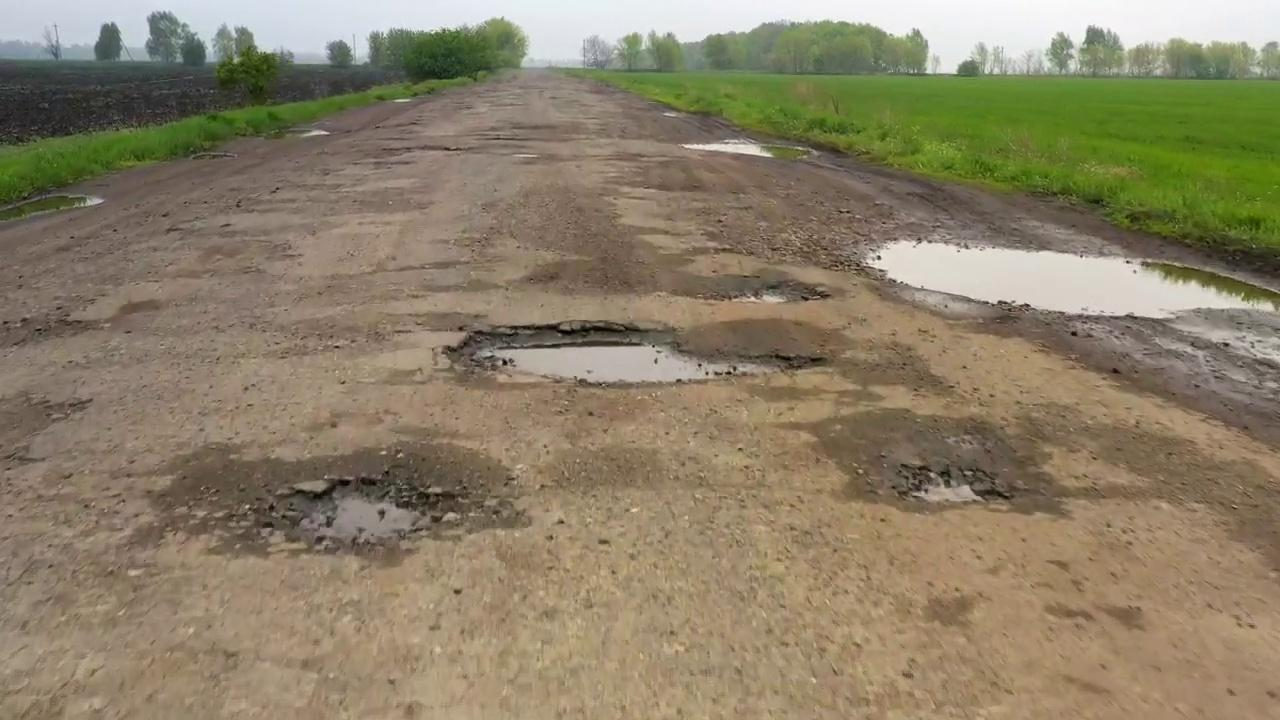bache: (155, 443, 528, 558), (870, 241, 1279, 317), (445, 320, 825, 384), (885, 458, 1020, 503), (689, 272, 830, 302), (0, 193, 103, 221)
